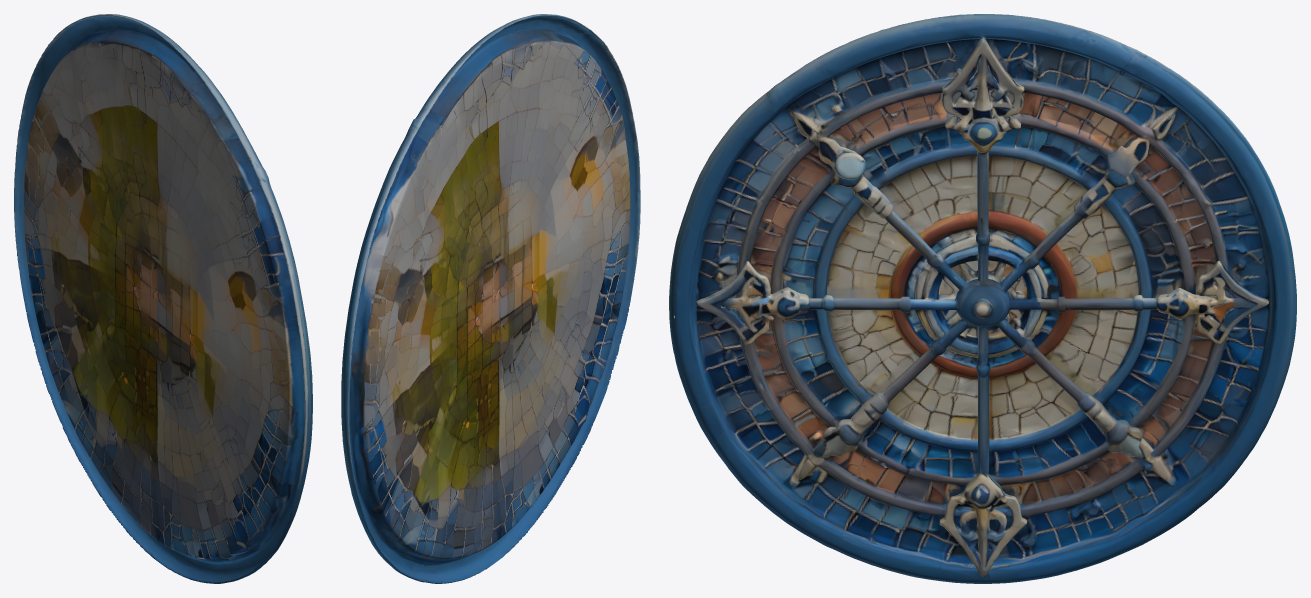
The model's file is plaza-mosaic-floor.glb.
The picture shows the model from 3 angles, left to right: view 1: azimuth 30°, elevation 25°; view 2: azimuth 150°, elevation 25°; view 3: azimuth 270°, elevation 25°; orthographic projection. The views are drawn at different scales.
Visible parts, largest first — view 1: tripo_node_d3d19362-1dae-408c-a1c1-95029128788e; view 2: tripo_node_d3d19362-1dae-408c-a1c1-95029128788e; view 3: tripo_node_d3d19362-1dae-408c-a1c1-95029128788e.
Boxes of the visible parts, x1,y1,x2,y2 form: tripo_node_d3d19362-1dae-408c-a1c1-95029128788e: (14, 14, 312, 583); tripo_node_d3d19362-1dae-408c-a1c1-95029128788e: (341, 14, 640, 583); tripo_node_d3d19362-1dae-408c-a1c1-95029128788e: (669, 14, 1296, 583).
Size of the model in its own units: 0.00722 by 0.1 by 0.1.
Materials: 1 (1 with a texture image).
